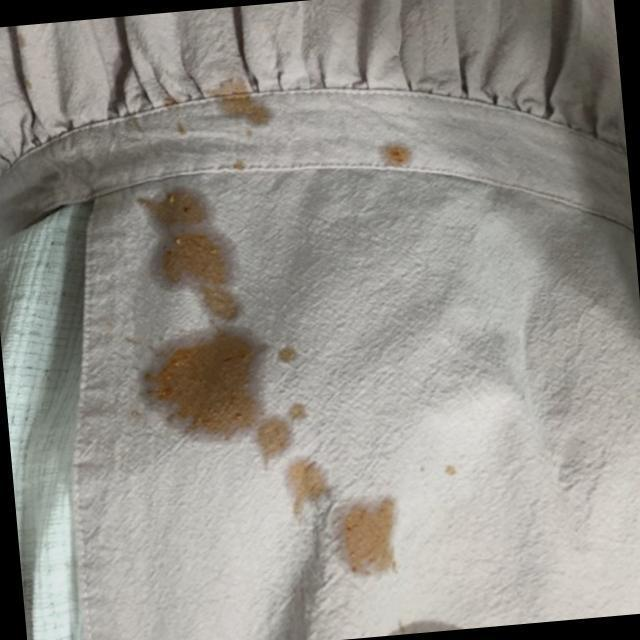kimchi: (120, 186, 334, 459), (272, 462, 415, 586), (148, 68, 279, 175), (368, 131, 425, 184), (445, 457, 465, 480)
